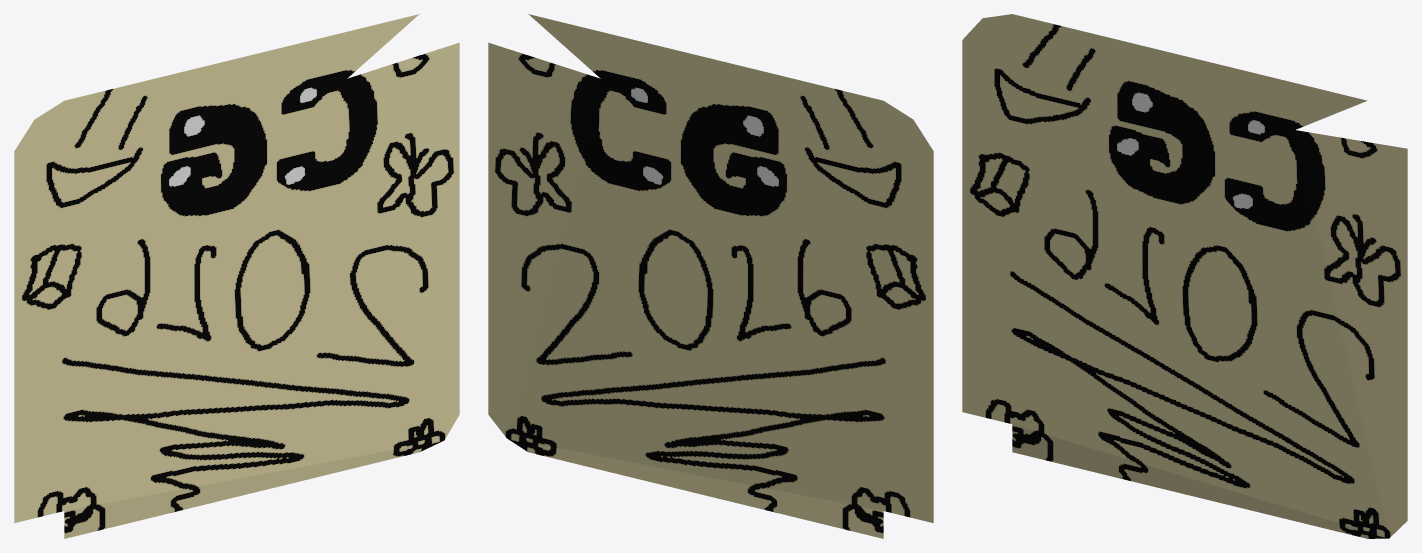
File: Poster.glb
3 renders of one model, left to right at view 1: azimuth 30°, elevation 25°; view 2: azimuth 150°, elevation 25°; view 3: azimuth 330°, elevation 25°, orthographic.
Visible parts, largest first — view 1: Plane; view 2: Plane; view 3: Plane.
Boxes of the visible parts, x1,y1,x2,y2 form: Plane: (14, 14, 459, 538); Plane: (488, 14, 933, 538); Plane: (962, 14, 1407, 538).
Size of the model in its own units: 1.46 by 1.38 by 0.00896.
Materials: 1 (1 with a texture image).
